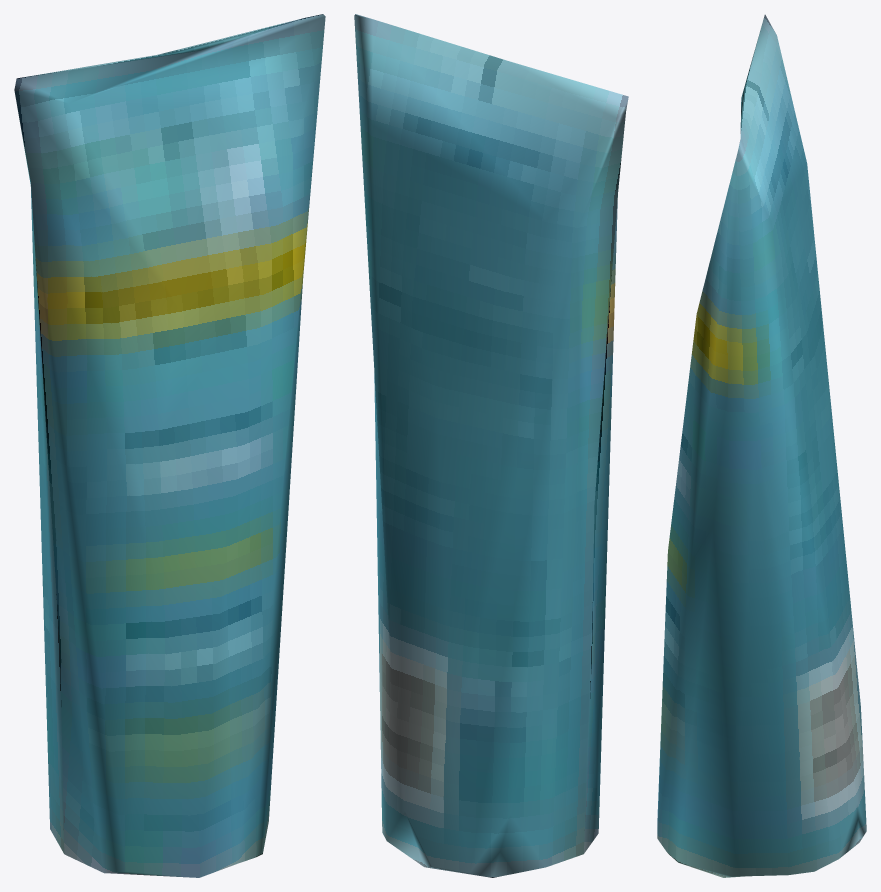
Rendered from Marc_Anthony_Skip_Professional_Oil_of_Morocco_Conditioner_with_Argan_Oil-low.glb.
3 renders of one model, left to right at view 1: azimuth 30°, elevation 25°; view 2: azimuth 150°, elevation 25°; view 3: azimuth 270°, elevation 25°, orthographic. The views are drawn at different scales.
Parts seen in each view (by area): view 1: Marc_Anthony_Skip_Professional_Oil_of_Morocco_Conditioner_wi; view 2: Marc_Anthony_Skip_Professional_Oil_of_Morocco_Conditioner_wi; view 3: Marc_Anthony_Skip_Professional_Oil_of_Morocco_Conditioner_wi.
Part boxes in pixels (box(x1,y1,x2,y2)): Marc_Anthony_Skip_Professional_Oil_of_Morocco_Conditioner_wi: box(14, 14, 325, 877); Marc_Anthony_Skip_Professional_Oil_of_Morocco_Conditioner_wi: box(354, 14, 628, 877); Marc_Anthony_Skip_Professional_Oil_of_Morocco_Conditioner_wi: box(657, 14, 866, 877).
Size of the model in its own units: 0.0742 by 0.1921 by 0.0479.
Materials: 1 (1 with a texture image).
